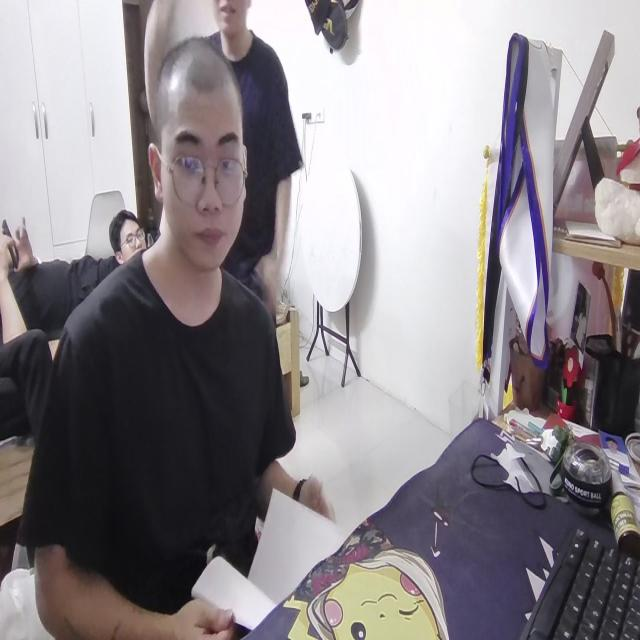book: (187, 476, 347, 636)
extra_person: (206, 0, 297, 312), (104, 200, 157, 265)
student: (28, 33, 332, 640)
